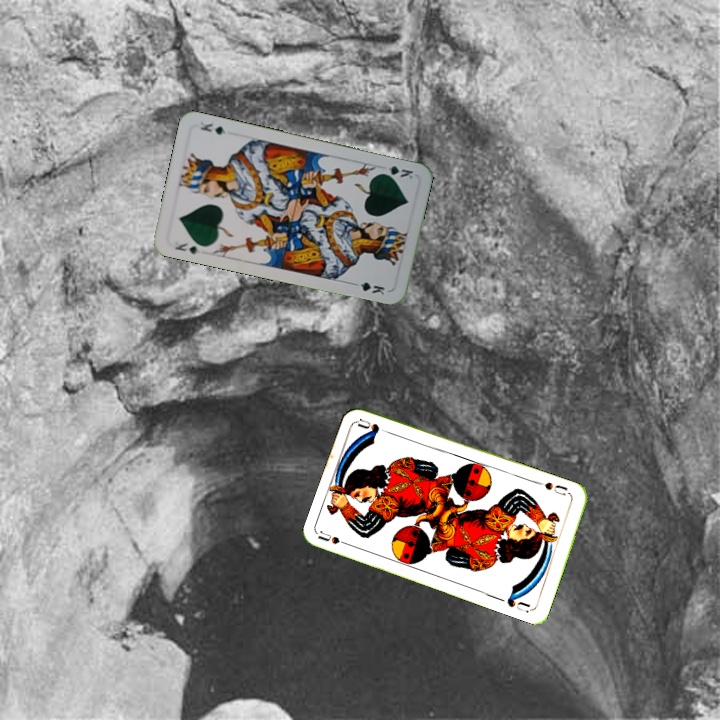GK: (376, 161, 416, 181), (171, 239, 203, 257)
SU: (315, 527, 356, 550), (534, 478, 574, 499)
